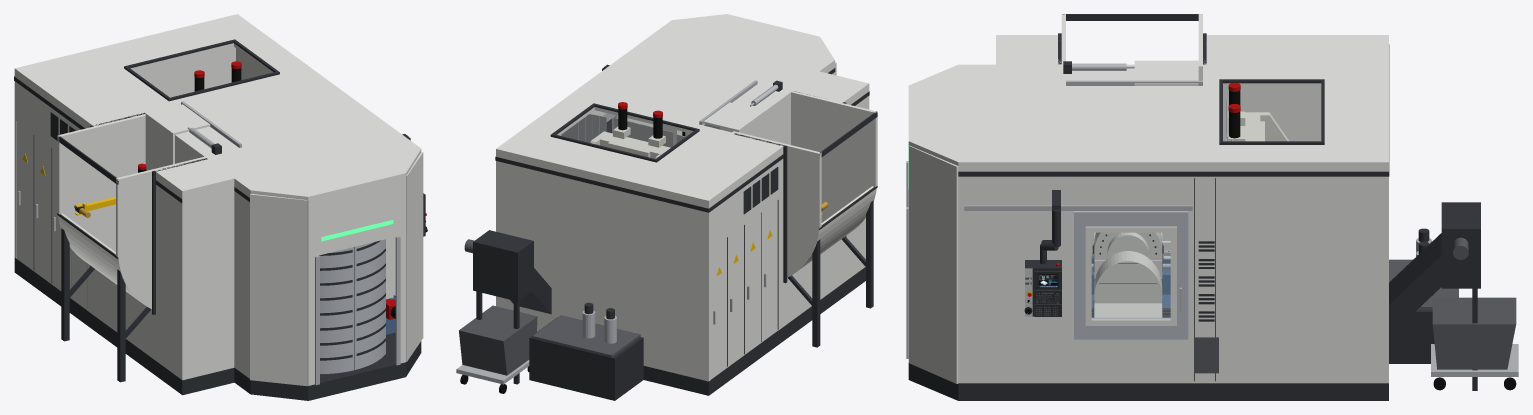
The model's file is hmc_x800_5ax_white_right.glb.
3 views of the same model, side by side, from view 1: azimuth 30°, elevation 25°; view 2: azimuth 150°, elevation 25°; view 3: azimuth 270°, elevation 25° (orthographic). The views are drawn at different scales.
Visible parts, largest first — view 1: enclosure__hmc_white, apc_housing__hmc_white, tc_box__hmc_white, electrical_cabinet__hmc_white, enclosure__anthracite, apc_door_left__door_grey, apc_housing__anthracite, apc_door_right__door_grey, tc_box__anthracite, tc_door__hmc_white, apc_housing__steel, apc_door_left__anthracite (+3 smaller); view 2: enclosure__hmc_white, tc_box__hmc_white, chip_coolant__anthracite, electrical_cabinet__hmc_white, enclosure__anthracite, apc_housing__hmc_white, chip_cart__steel_dark, tc_box__anthracite, chip_coolant__anthracite_lt, tc_door__hmc_white, column__struct_grey, chip_coolant__steel (+5 smaller); view 3: enclosure__hmc_white, apc_housing__hmc_white, enclosure__anthracite, chip_coolant__anthracite, operator_door__glass_clear, operator_door__door_grey, chip_cart__steel_dark, table__struct_grey, operator_door__hmc_white, enclosure__steel, apc_housing__anthracite, tc_door__hmc_white (+10 smaller).
Part boxes in pixels (x1=…): enclosure__hmc_white: x1=14, y1=14, x2=404, y2=380; apc_housing__hmc_white: x1=234, y1=137, x2=423, y2=386; tc_box__hmc_white: x1=57, y1=114, x2=205, y2=309; electrical_cabinet__hmc_white: x1=17, y1=121, x2=87, y2=309; enclosure__anthracite: x1=14, y1=39, x2=279, y2=395; apc_door_left__door_grey: x1=320, y1=247, x2=354, y2=373; apc_housing__anthracite: x1=234, y1=187, x2=421, y2=400; apc_door_right__door_grey: x1=354, y1=239, x2=385, y2=369; tc_box__anthracite: x1=57, y1=135, x2=151, y2=382; tc_door__hmc_white: x1=145, y1=104, x2=210, y2=170; apc_housing__steel: x1=315, y1=236, x2=400, y2=385; apc_door_left__anthracite: x1=319, y1=250, x2=352, y2=360; enclosure__hmc_white: x1=496, y1=31, x2=869, y2=381; tc_box__hmc_white: x1=735, y1=91, x2=877, y2=277; chip_coolant__anthracite: x1=473, y1=230, x2=643, y2=400; electrical_cabinet__hmc_white: x1=710, y1=199, x2=777, y2=379; enclosure__anthracite: x1=495, y1=80, x2=869, y2=395; apc_housing__hmc_white: x1=656, y1=14, x2=836, y2=135; chip_cart__steel_dark: x1=459, y1=305, x2=537, y2=375; tc_box__anthracite: x1=788, y1=111, x2=877, y2=347; chip_coolant__anthracite_lt: x1=532, y1=315, x2=640, y2=357; tc_door__hmc_white: x1=703, y1=102, x2=765, y2=138; column__struct_grey: x1=590, y1=126, x2=670, y2=158; chip_coolant__steel: x1=582, y1=310, x2=616, y2=343; enclosure__hmc_white: x1=996, y1=35, x2=1388, y2=383; apc_housing__hmc_white: x1=908, y1=64, x2=995, y2=383; enclosure__anthracite: x1=996, y1=33, x2=1389, y2=400; chip_coolant__anthracite: x1=1389, y1=202, x2=1480, y2=390; operator_door__glass_clear: x1=1092, y1=233, x2=1169, y2=318; operator_door__door_grey: x1=1074, y1=211, x2=1188, y2=339; chip_cart__steel_dark: x1=1432, y1=297, x2=1516, y2=369; table__struct_grey: x1=1094, y1=232, x2=1162, y2=317; operator_door__hmc_white: x1=1085, y1=226, x2=1176, y2=325; enclosure__steel: x1=964, y1=63, x2=1202, y2=210; apc_housing__anthracite: x1=908, y1=171, x2=995, y2=400; tc_door__hmc_white: x1=1134, y1=60, x2=1198, y2=239.
Size of the model in its own units: 4.54 by 3.22 by 6.98.
Materials: 20 (2 with a texture image).
